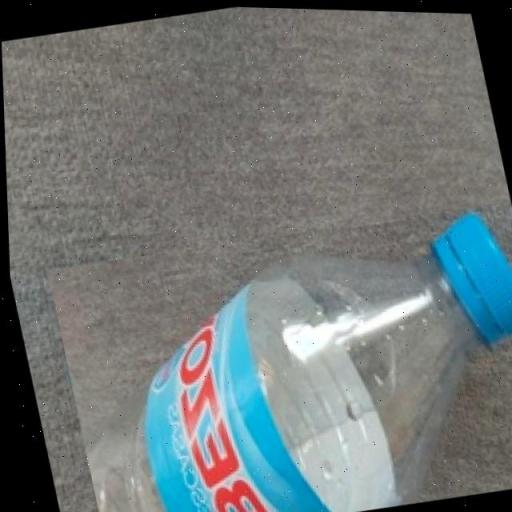plastic: (42, 187, 512, 512)
